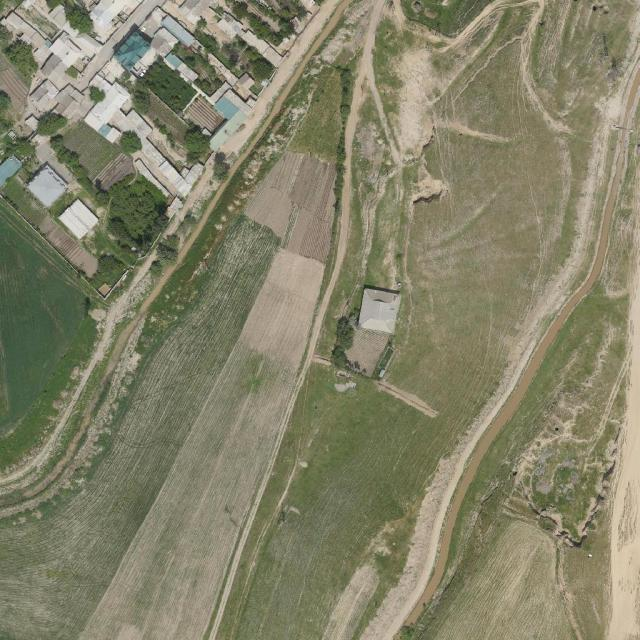agricultural_land: (79, 242, 383, 640), (0, 200, 87, 432), (57, 111, 139, 196), (135, 89, 195, 145), (135, 90, 194, 146), (146, 123, 193, 171), (108, 102, 156, 147), (14, 0, 60, 42), (182, 94, 226, 137), (38, 52, 62, 78), (31, 45, 54, 68), (249, 147, 252, 153)
building: (79, 0, 142, 44), (81, 81, 132, 132), (356, 284, 403, 335), (0, 9, 47, 54), (26, 165, 69, 209), (241, 28, 285, 68), (112, 30, 153, 72), (58, 199, 99, 241), (132, 159, 171, 200), (26, 78, 65, 117), (48, 82, 87, 121), (46, 31, 84, 69), (156, 159, 193, 198), (159, 14, 197, 49), (71, 27, 103, 60), (223, 88, 254, 117), (216, 13, 245, 41), (0, 154, 23, 186), (212, 94, 239, 121), (97, 120, 122, 145), (38, 52, 62, 78), (61, 21, 81, 40), (96, 122, 112, 138), (97, 283, 113, 297)
greenland: (287, 64, 357, 162), (106, 174, 170, 255), (44, 132, 106, 199), (214, 31, 277, 93), (219, 0, 295, 51), (139, 56, 199, 116), (401, 1, 493, 36), (2, 35, 49, 86), (172, 123, 215, 166), (56, 0, 100, 38), (31, 105, 69, 142), (191, 24, 224, 57), (115, 127, 145, 158), (212, 150, 237, 183), (132, 84, 151, 114), (85, 84, 107, 105), (64, 65, 80, 82), (214, 5, 225, 16)
unmetalled_road: (21, 297, 162, 511), (222, 0, 357, 174), (175, 178, 231, 262), (79, 301, 124, 390), (117, 263, 150, 307), (140, 284, 164, 312)
